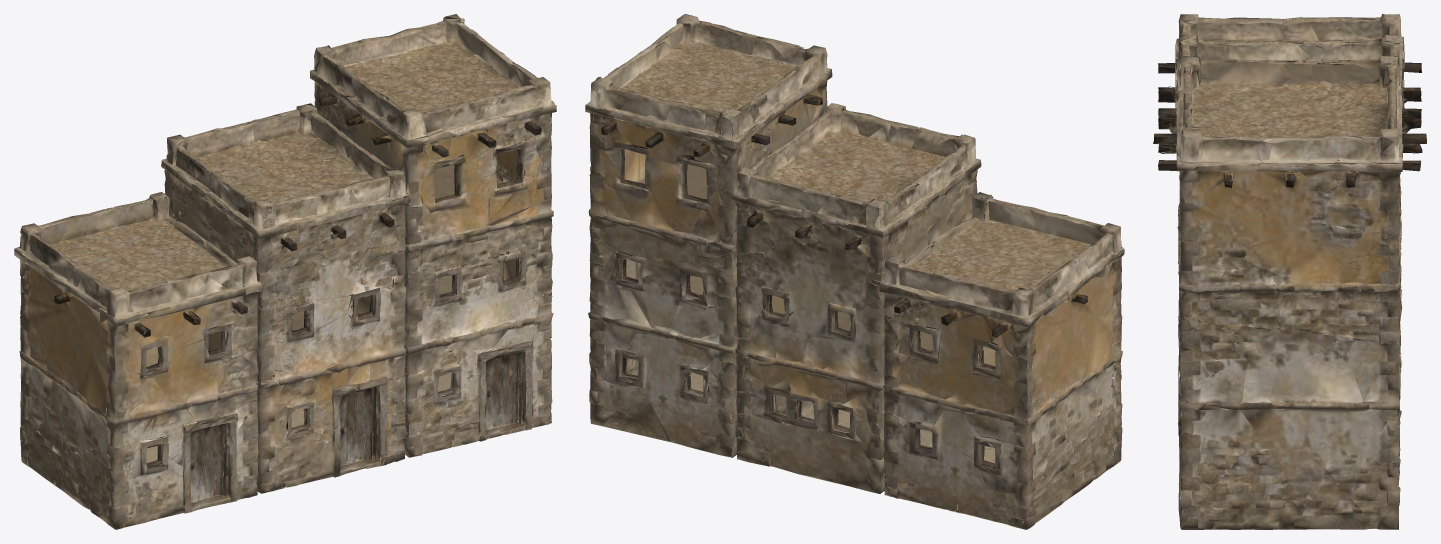
Rendered from city-block.glb.
3 views of the same model, side by side, from view 1: azimuth 30°, elevation 25°; view 2: azimuth 150°, elevation 25°; view 3: azimuth 270°, elevation 25° (orthographic). The views are drawn at different scales.
Parts seen in each view (by area): view 1: Mesh_0; view 2: Mesh_0; view 3: Mesh_0.
Part boxes in pixels (x1=…): Mesh_0: x1=14, y1=14, x2=556, y2=529; Mesh_0: x1=585, y1=14, x2=1124, y2=529; Mesh_0: x1=1153, y1=14, x2=1426, y2=529.
Size of the model in its own units: 5.91 by 4.2 by 2.63.
1 material, 1 textured.
